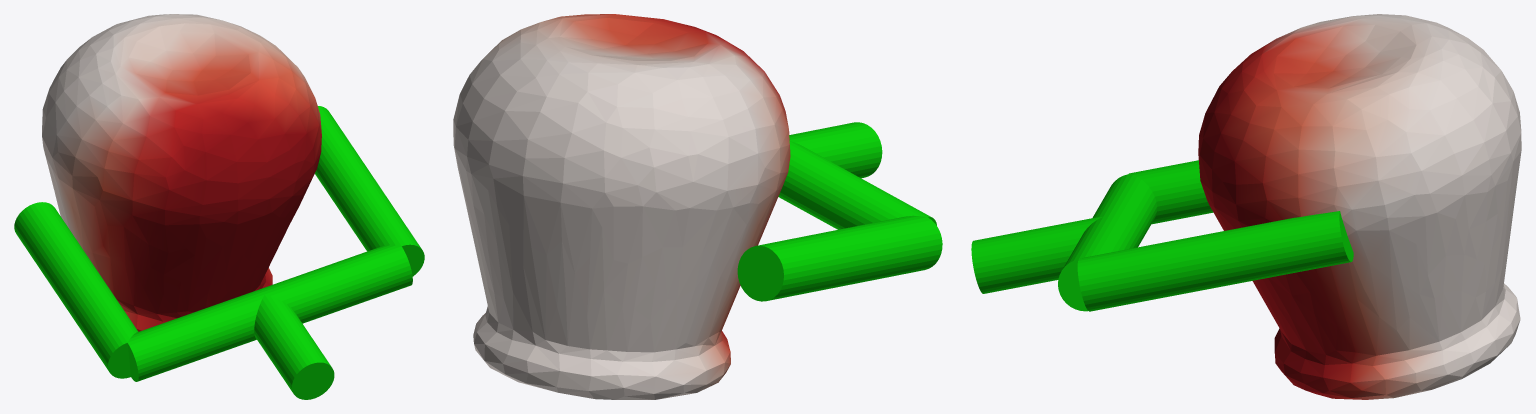
The model's file is round_000_trial_001.obj.
3 renders of one model, left to right at view 1: azimuth 30°, elevation 25°; view 2: azimuth 150°, elevation 25°; view 3: azimuth 270°, elevation 25°, orthographic. The views are drawn at different scales.
Parts seen in each view (by area): view 1: geometry_0, geometry_1; view 2: geometry_0, geometry_1; view 3: geometry_0, geometry_1.
Part boxes in pixels (left/top/right/bottom): geometry_0: left=42, top=14, right=321, bottom=331; geometry_1: left=14, top=106, right=424, bottom=399; geometry_0: left=453, top=14, right=790, bottom=399; geometry_1: left=737, top=122, right=942, bottom=301; geometry_0: left=1198, top=14, right=1521, bottom=399; geometry_1: left=971, top=160, right=1353, bottom=311.
Size of the model in its own units: 0.0772 by 0.066 by 0.1014.
